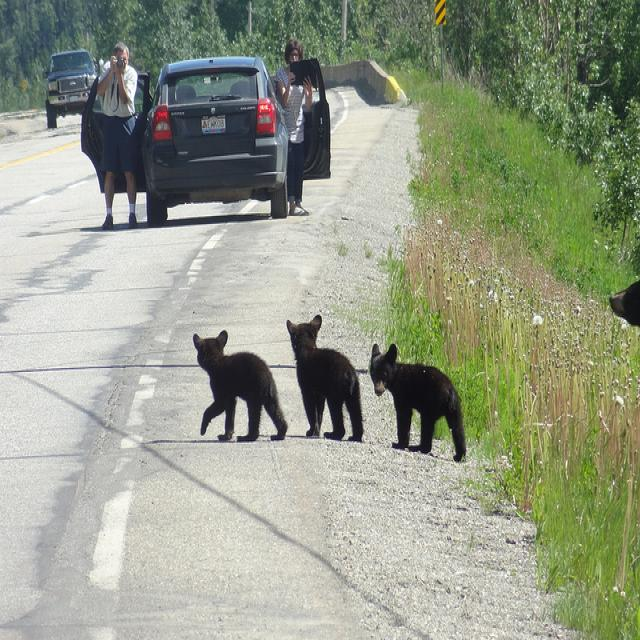Bear: (368, 324, 470, 466), (285, 311, 368, 459), (186, 324, 284, 444)
